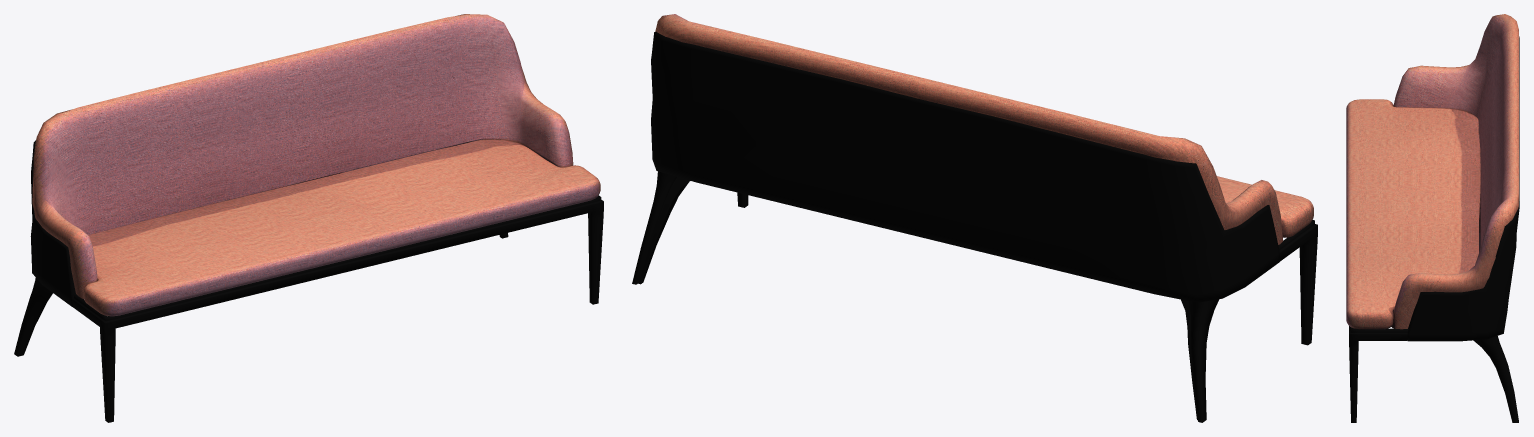
File: Three_Seater_Sofa_01.fbx
3 renders of one model, left to right at view 1: azimuth 30°, elevation 25°; view 2: azimuth 150°, elevation 25°; view 3: azimuth 270°, elevation 25°, orthographic. The views are drawn at different scales.
Parts seen in each view (by area): view 1: Back.001; view 2: Back.001; view 3: Back.001.
Part boxes in pixels (left/top/right/bottom): Back.001: left=14, top=14, right=603, bottom=422; Back.001: left=632, top=14, right=1317, bottom=422; Back.001: left=1346, top=14, right=1519, bottom=422.
Size of the model in its own units: 178 by 79.88 by 60.01.
1 material, 1 textured.
